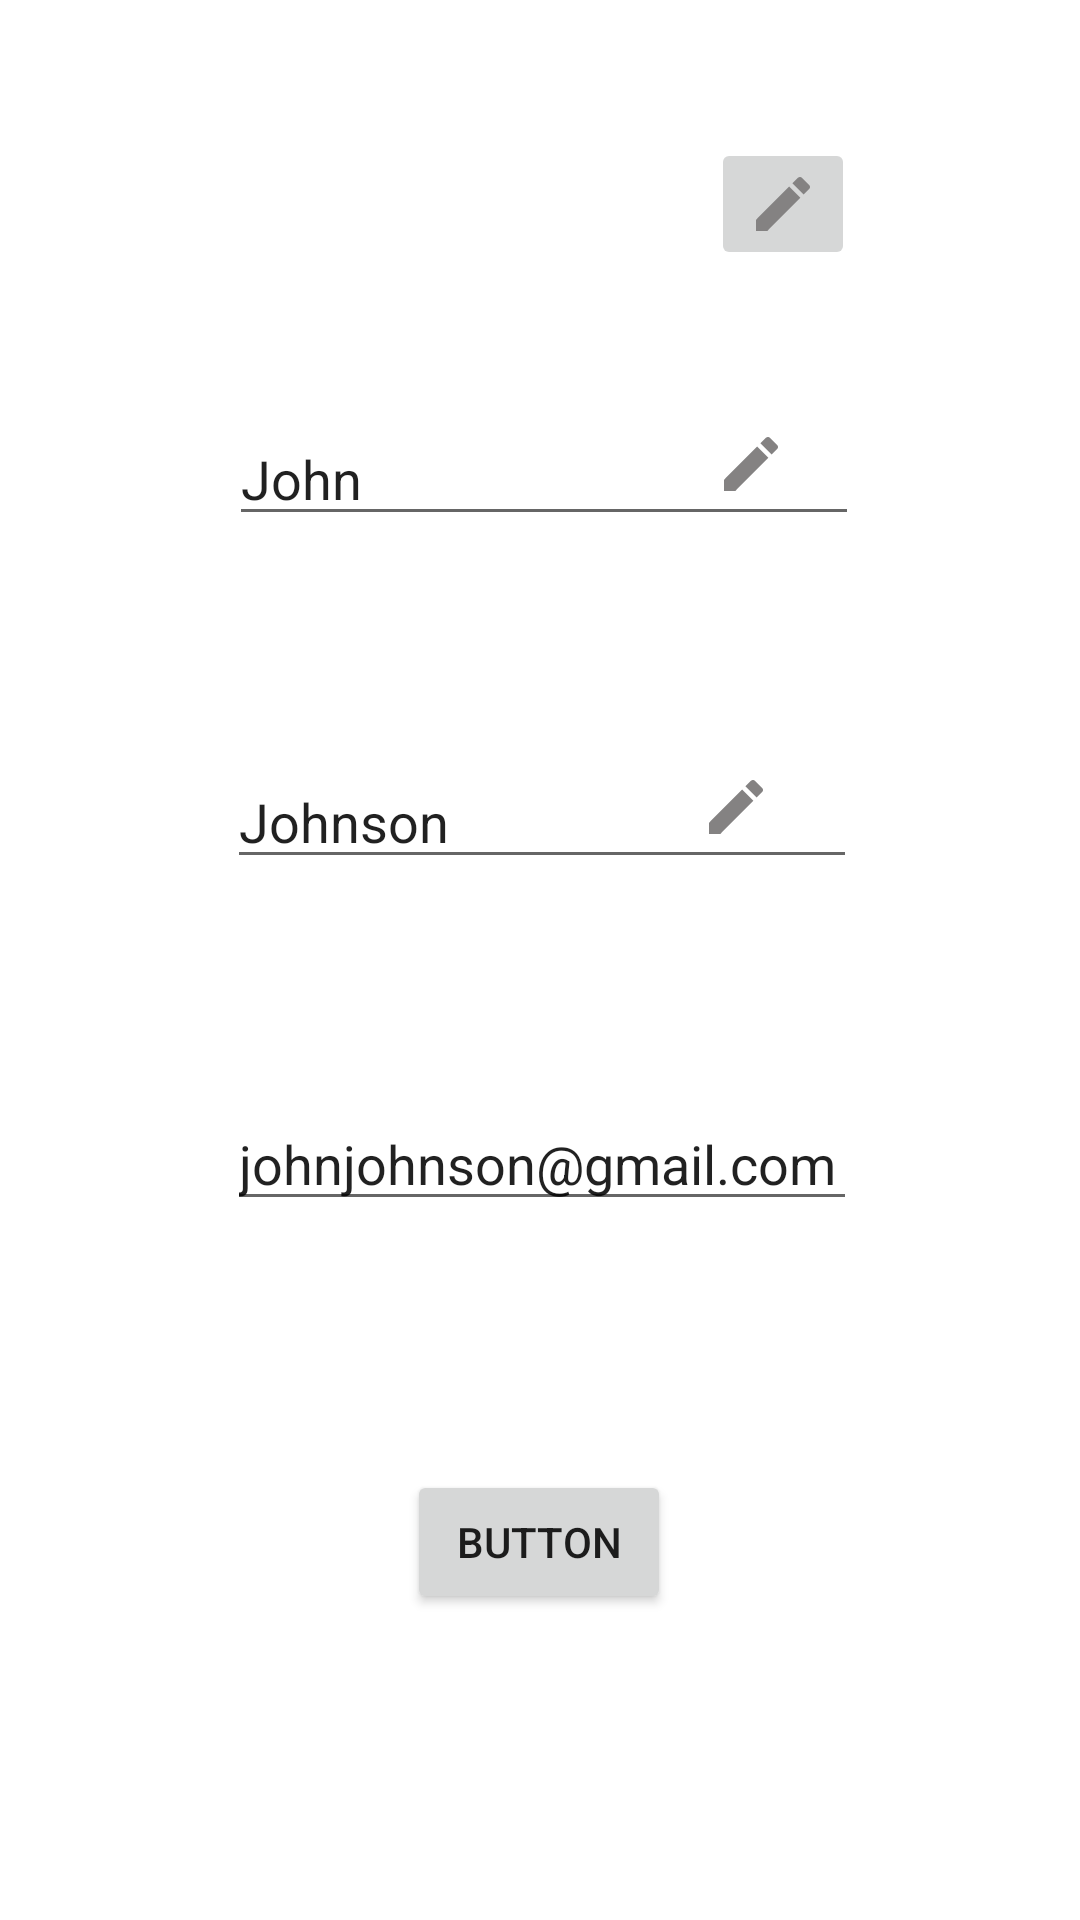

Icon click points for this 1080w x 1920h phone screenshot, format point (x, y):
edit: point (783, 204)
